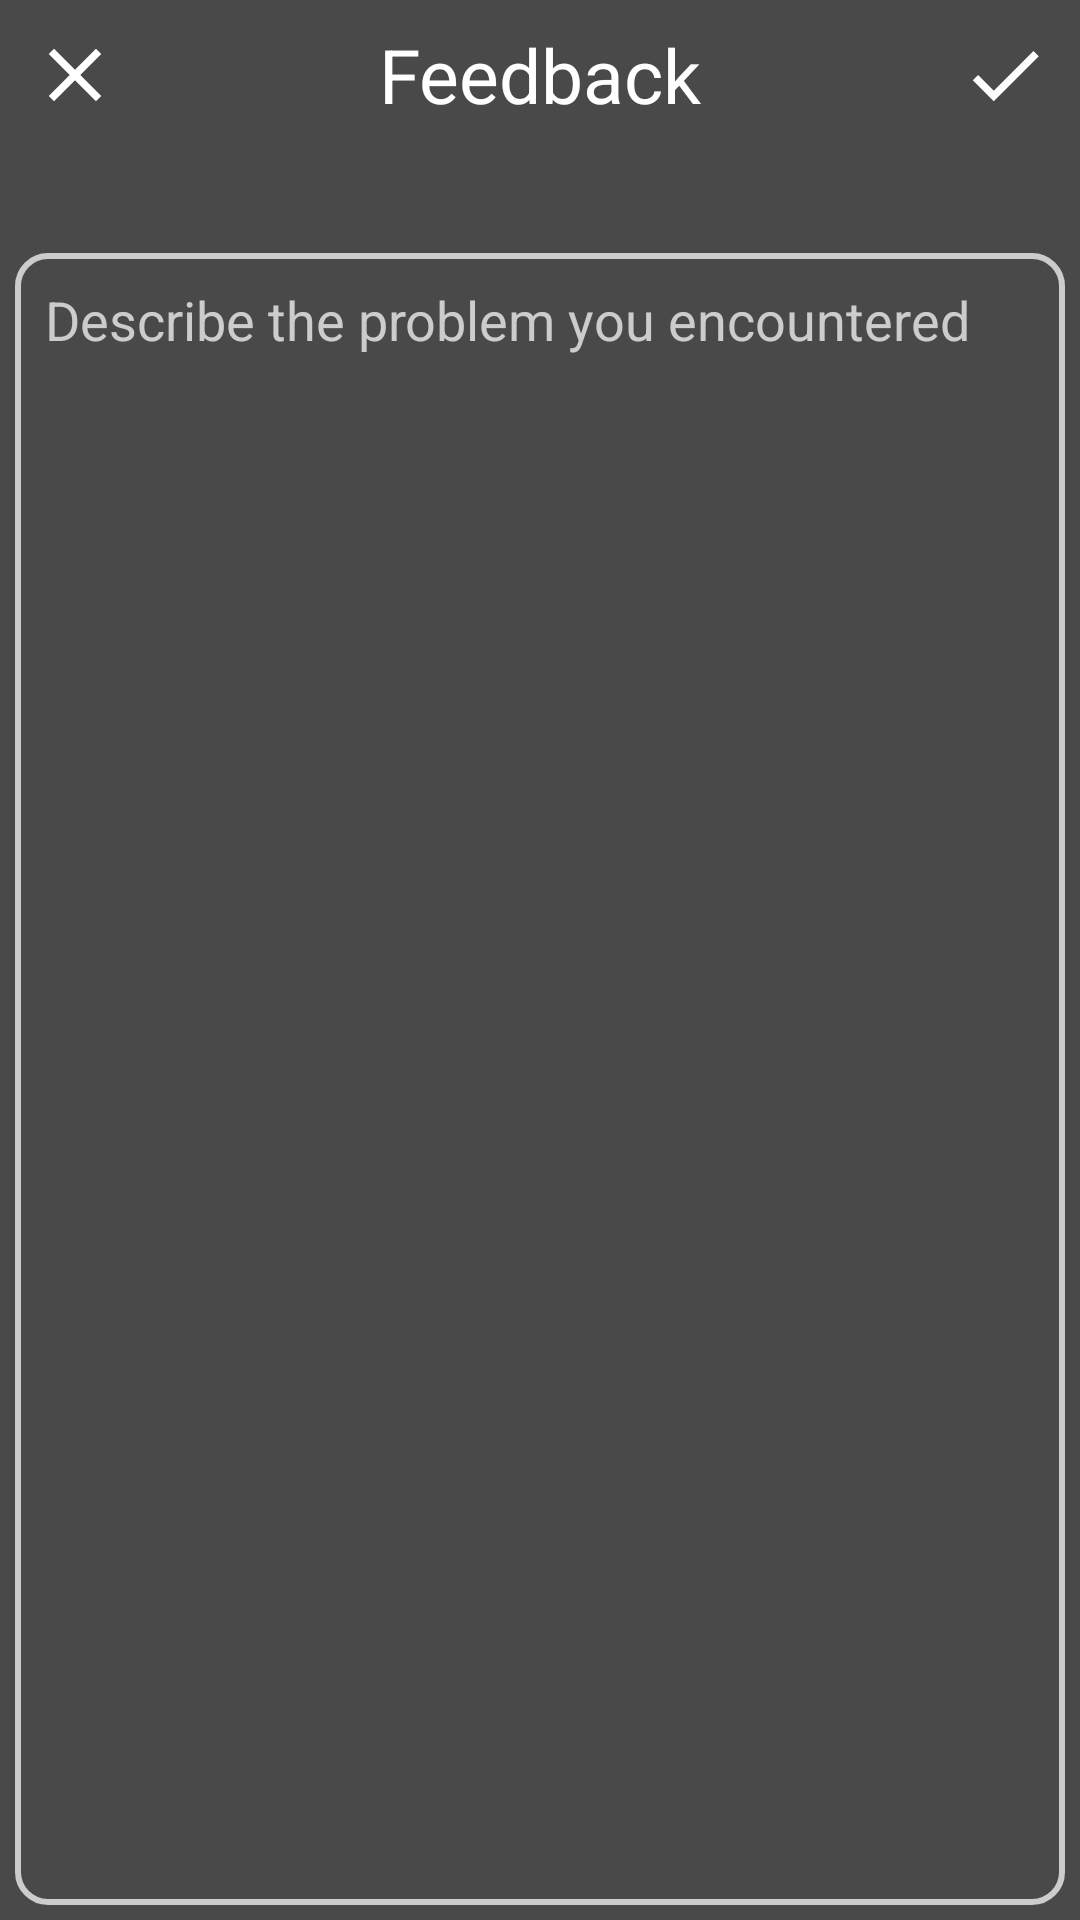

Named icons in this screenshot (1080*1920) and their centers, (x,y):
check: (1006,76)
close: (75,75)
